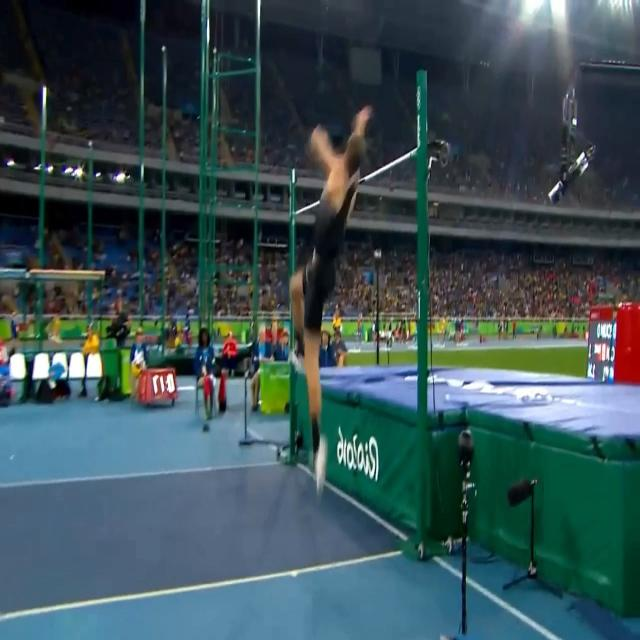jump: (288, 101, 374, 505)
